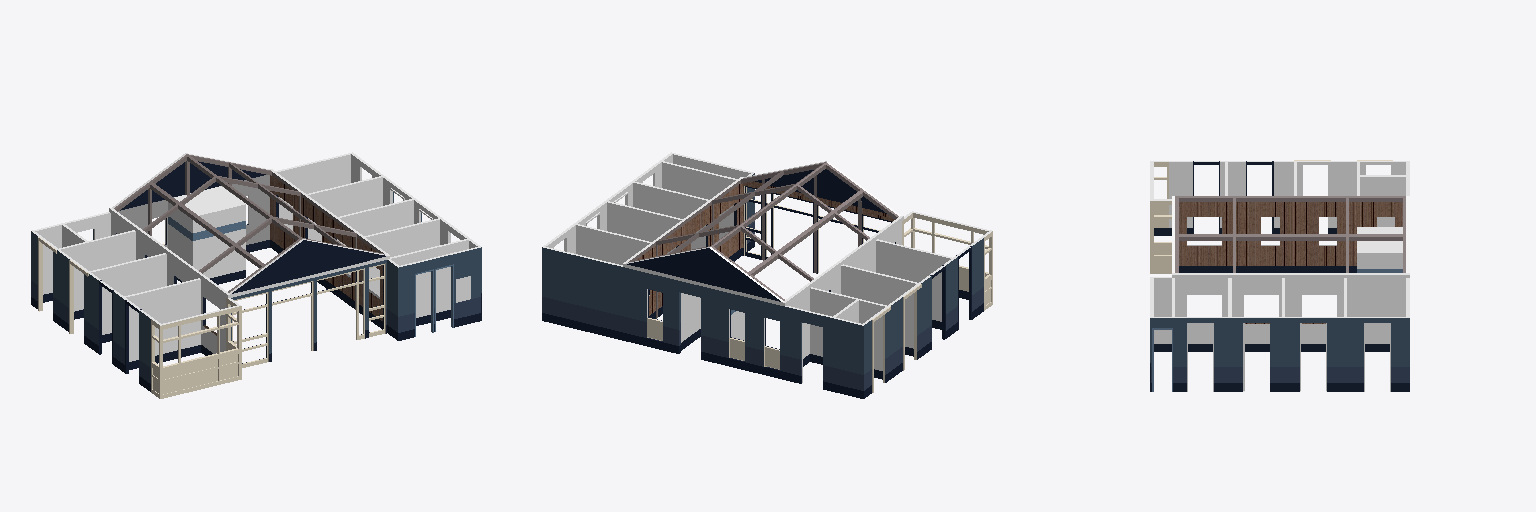
3 renders of one model, left to right at view 1: azimuth 30°, elevation 25°; view 2: azimuth 150°, elevation 25°; view 3: azimuth 270°, elevation 25°, orthographic.
Visible parts, largest first — view 1: -Visio_284_Patio-; view 2: -Visio_284_Patio-; view 3: -Visio_284_Patio-.
Boxes of the visible parts, <box> form: -Visio_284_Patio-: <box>31,152,481,398</box>; -Visio_284_Patio-: <box>542,152,992,398</box>; -Visio_284_Patio-: <box>1150,160,1409,391</box>.
Size of the model in its own units: 11.94 by 4.02 by 8.3.
Materials: 10 (1 with a texture image).